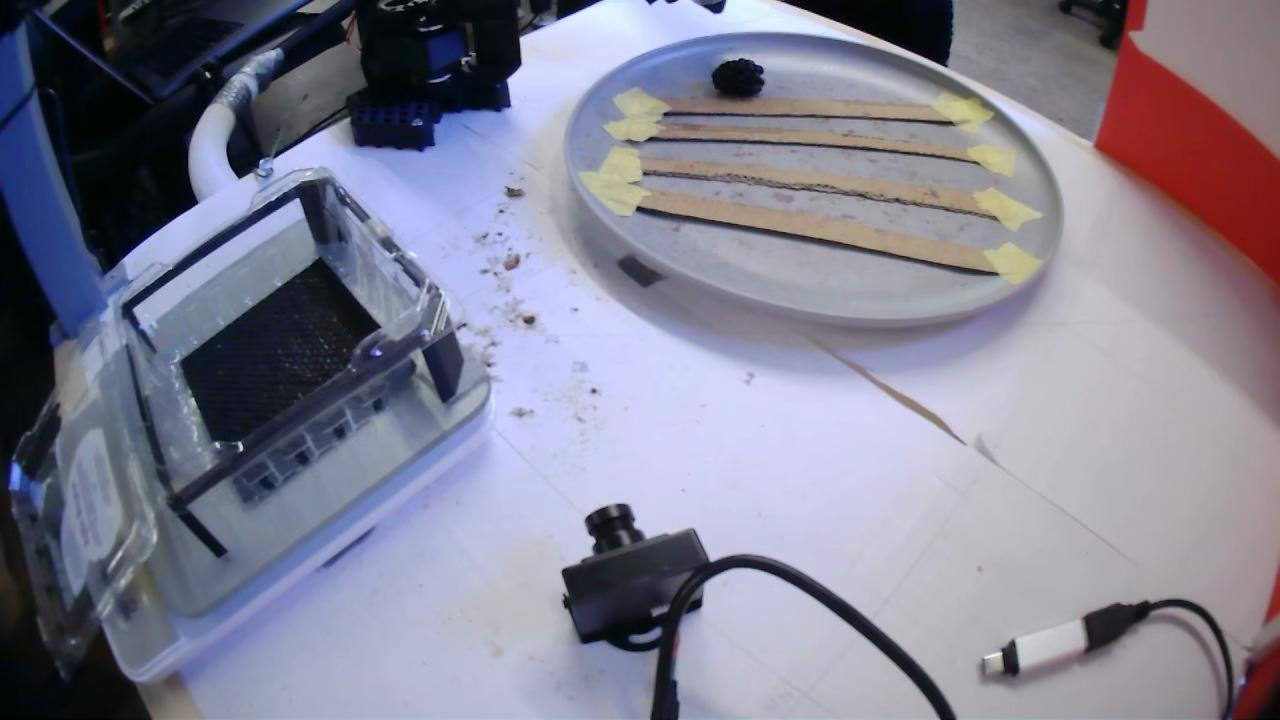berry: (712, 59, 764, 97)
